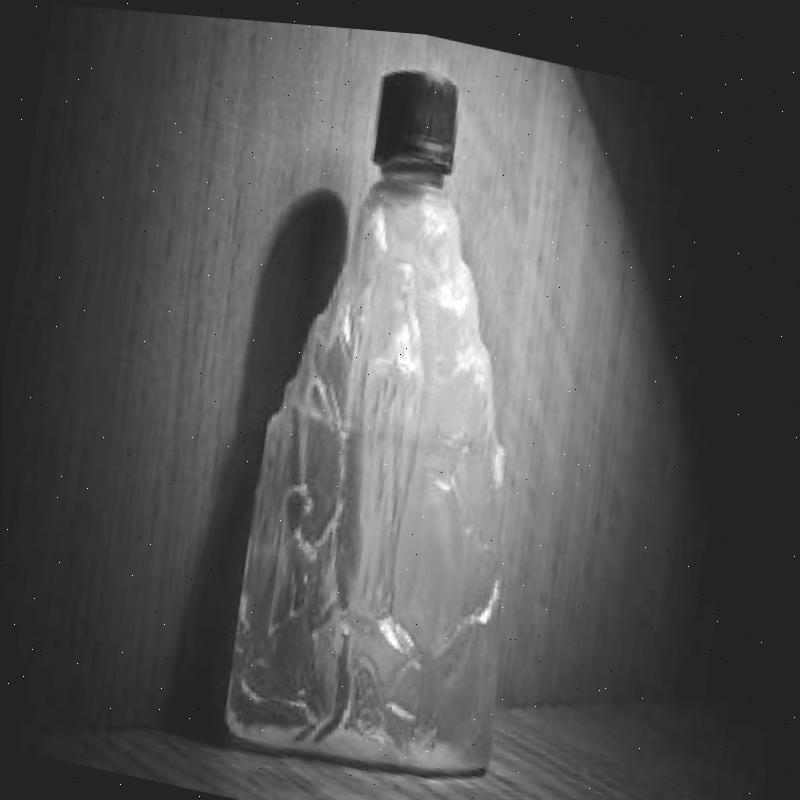botella: (209, 38, 594, 787)
